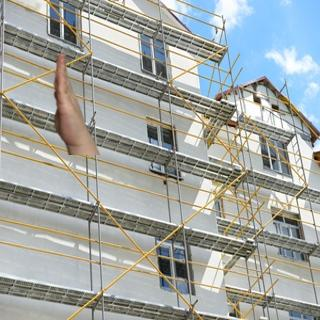RIGHT: (48, 50, 93, 146)
